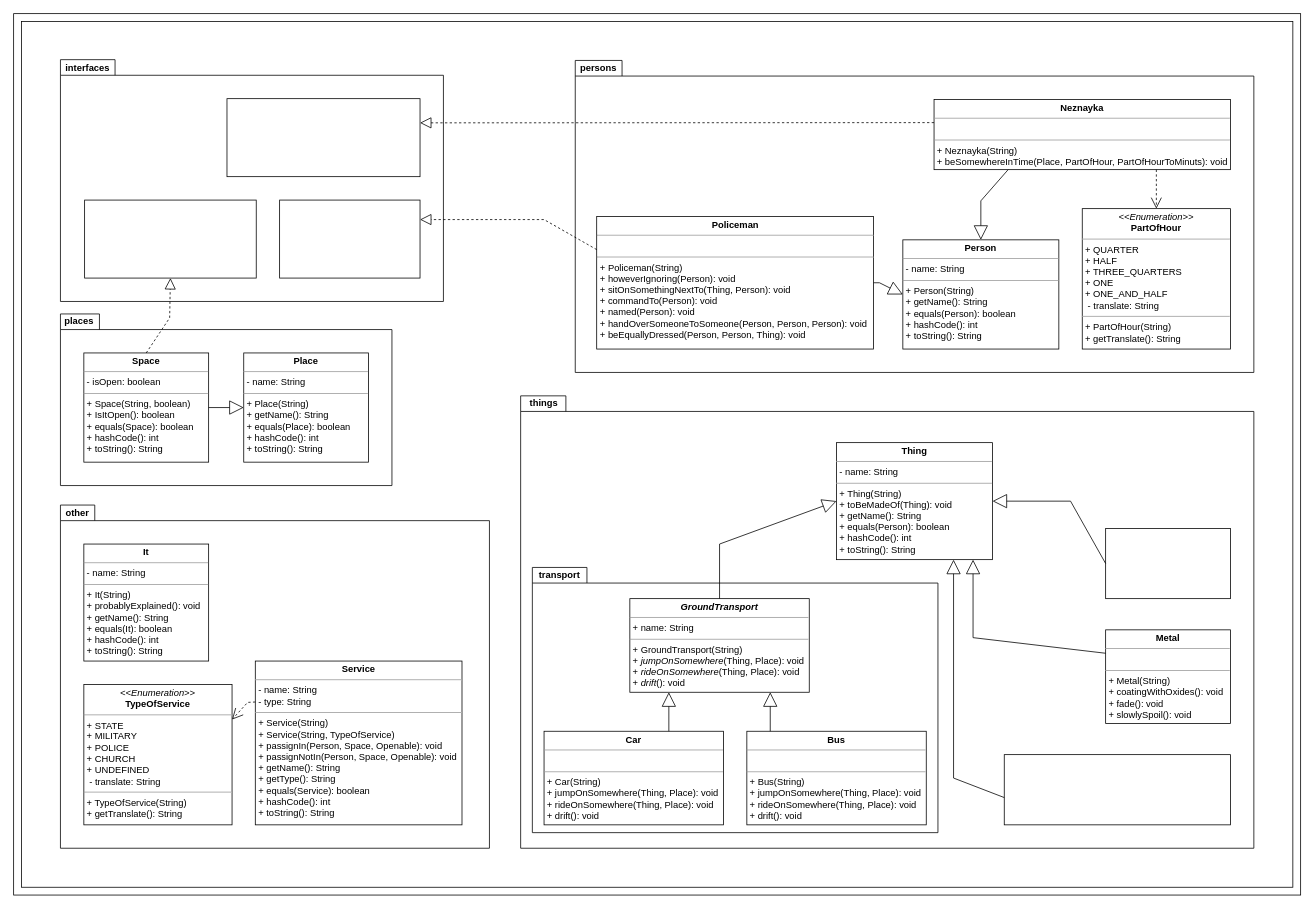
The diagram is 1314 pixels wide and 909 high, and some of its shapes have lost their labels. The box of each missing label's shape, as (x1, y1, x2, y2) in pixels:
<<Interface>> Nameable + named(Person): void: (279, 199, 420, 278)
<<Interface>> Openable + isTheSpaceOpen(Space): void: (84, 199, 256, 278)
<<Interface>> PartOfHourToMinutes + interpretationToMinuts(PartOfHour): int: (226, 98, 420, 177)
Buttons + Buttons(String) + doNotShineBrightlyAs(Thing, Person, Person): void: (1003, 754, 1230, 825)
Engine + Engine(String) + buzz(): void: (1105, 528, 1230, 599)
